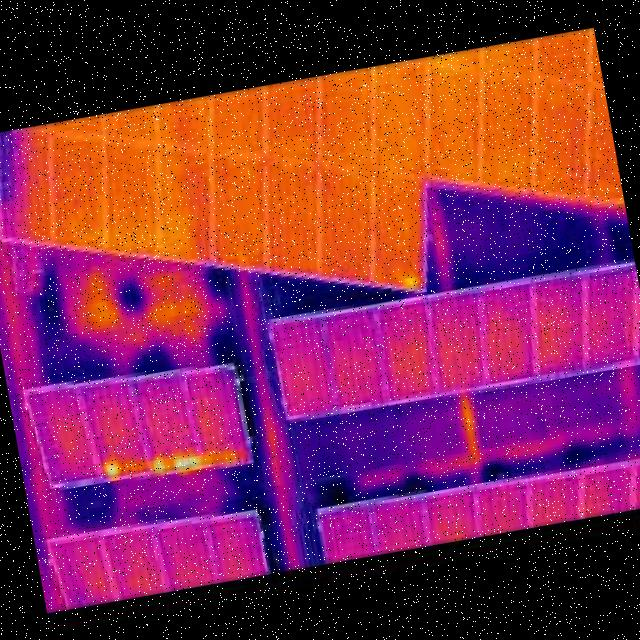Hotspot: (100, 456, 126, 482), (174, 449, 200, 475), (398, 272, 426, 296), (150, 454, 168, 476)
